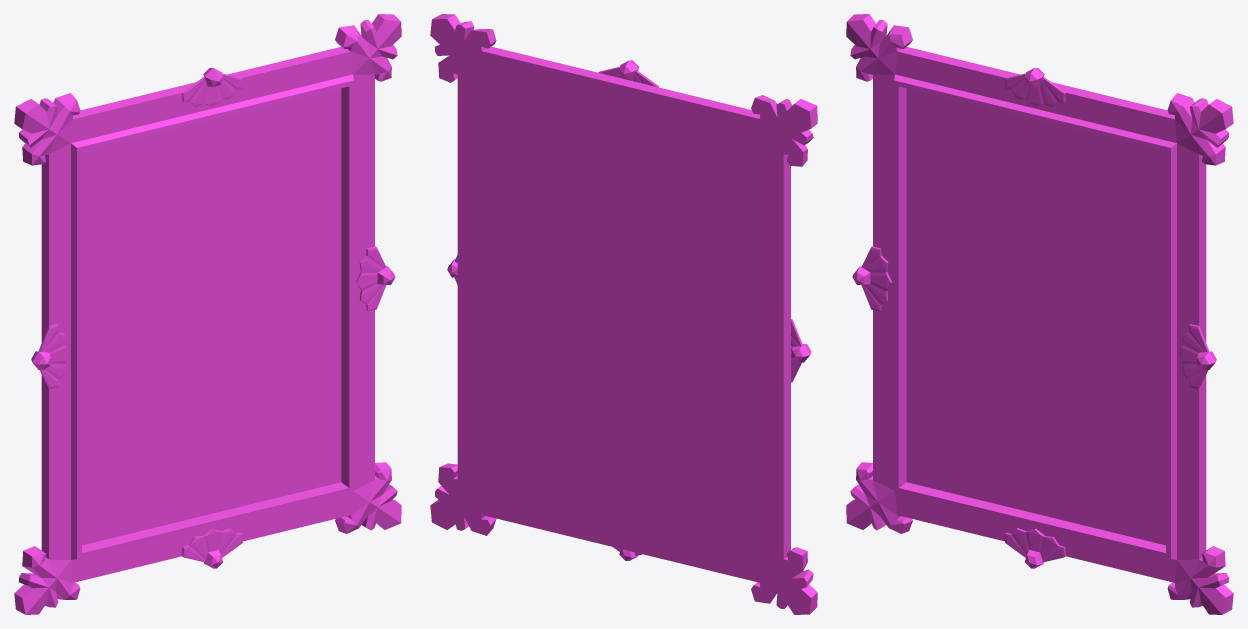
The model's file is SM_Picture_King_Painting_Fantasy.fbx.
3 renders of one model, left to right at view 1: azimuth 30°, elevation 25°; view 2: azimuth 150°, elevation 25°; view 3: azimuth 330°, elevation 25°, orthographic.
Visible parts, largest first — view 1: SM_Picture_King_Painting_Fantasy; view 2: SM_Picture_King_Painting_Fantasy; view 3: SM_Picture_King_Painting_Fantasy.
Part boxes in pixels (x1,y1,x2,y2): SM_Picture_King_Painting_Fantasy: [14, 14, 401, 614]; SM_Picture_King_Painting_Fantasy: [430, 14, 817, 614]; SM_Picture_King_Painting_Fantasy: [846, 14, 1233, 614].
Size of the model in its own units: 1.55 by 1.99 by 0.0982.
